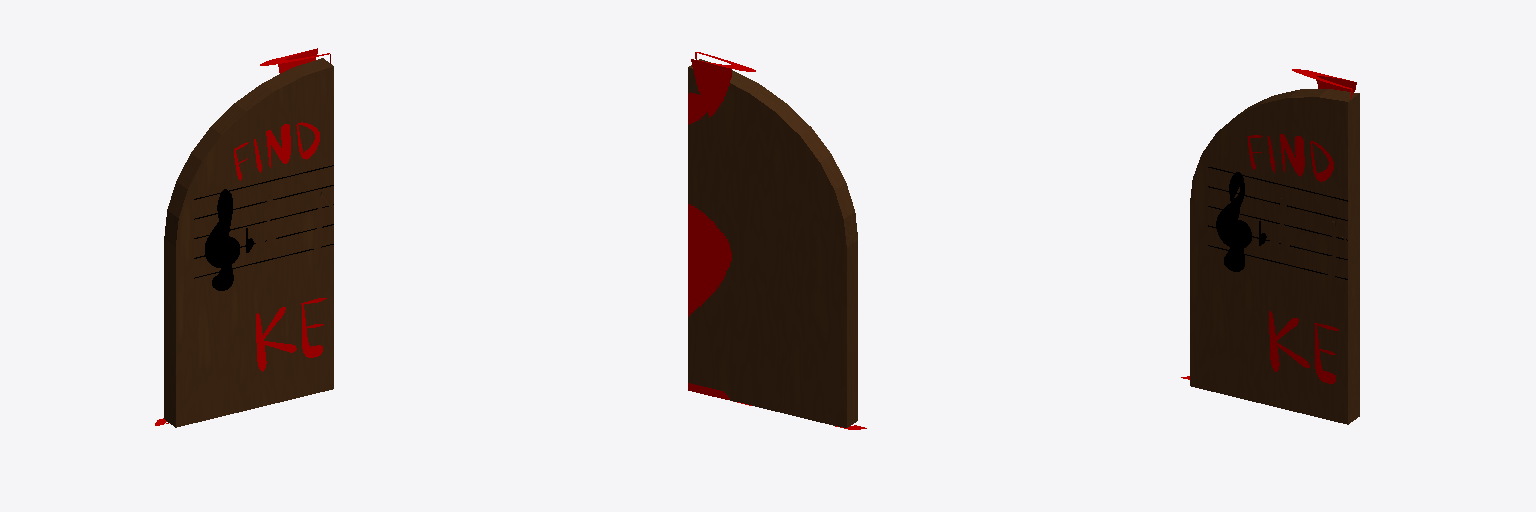
The picture shows the model from 3 angles: view 1: azimuth 30°, elevation 25°; view 2: azimuth 150°, elevation 25°; view 3: azimuth 330°, elevation 25°; orthographic projection.
Parts seen in each view (by area): view 1: door_left, UCX_door_left; view 2: door_left, UCX_door_left; view 3: door_left, UCX_door_left.
Boxes of the visible parts, x1=… form: door_left: x1=164, y1=58, x2=333, y2=427; UCX_door_left: x1=155, y1=48, x2=330, y2=425; door_left: x1=688, y1=59, x2=857, y2=427; UCX_door_left: x1=688, y1=52, x2=866, y2=429; door_left: x1=1190, y1=89, x2=1359, y2=424; UCX_door_left: x1=1181, y1=69, x2=1356, y2=379.
Size of the model in its own units: 5.34 by 9.44 by 0.6688.
Materials: 4 (4 with a texture image).